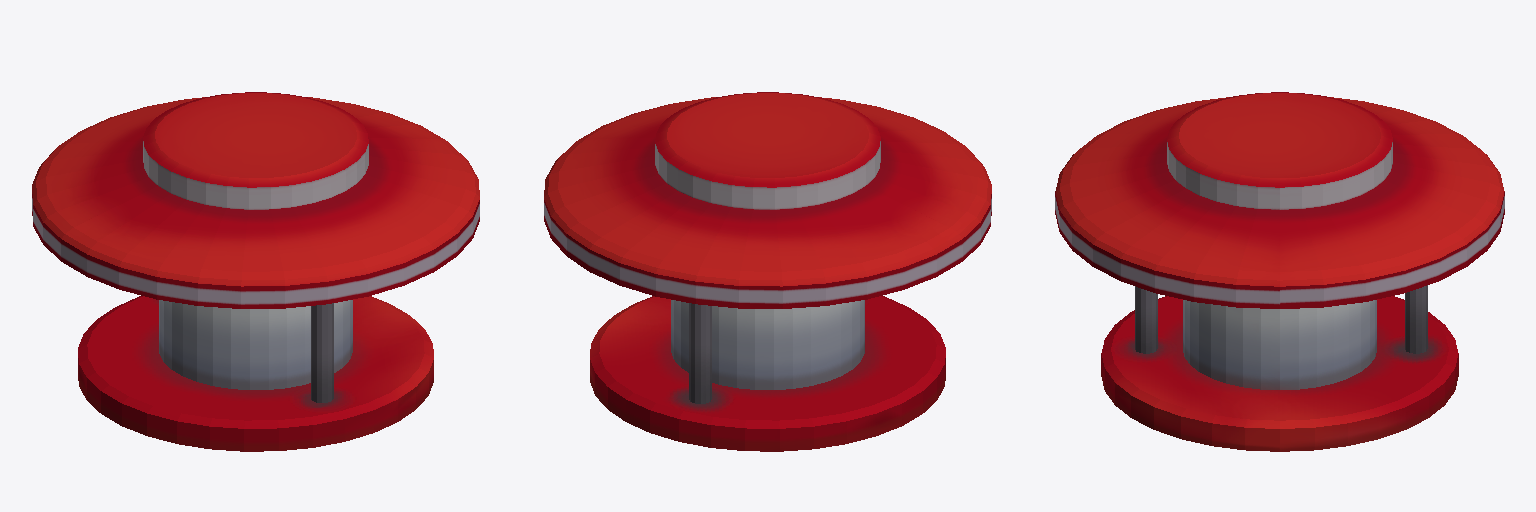
The picture shows the model from 3 angles: view 1: azimuth 30°, elevation 25°; view 2: azimuth 150°, elevation 25°; view 3: azimuth 270°, elevation 25°; orthographic projection.
Visible parts, largest first — view 1: Cylinder.006_Cylinder; view 2: Cylinder.006_Cylinder; view 3: Cylinder.006_Cylinder.
Part boxes in pixels (x1,y1,x2,y2): Cylinder.006_Cylinder: (32,92,479,451); Cylinder.006_Cylinder: (544,92,991,451); Cylinder.006_Cylinder: (1055,92,1504,451).
Size of the model in its own units: 5.09 by 3.01 by 5.09.
1 materials, 1 textured.